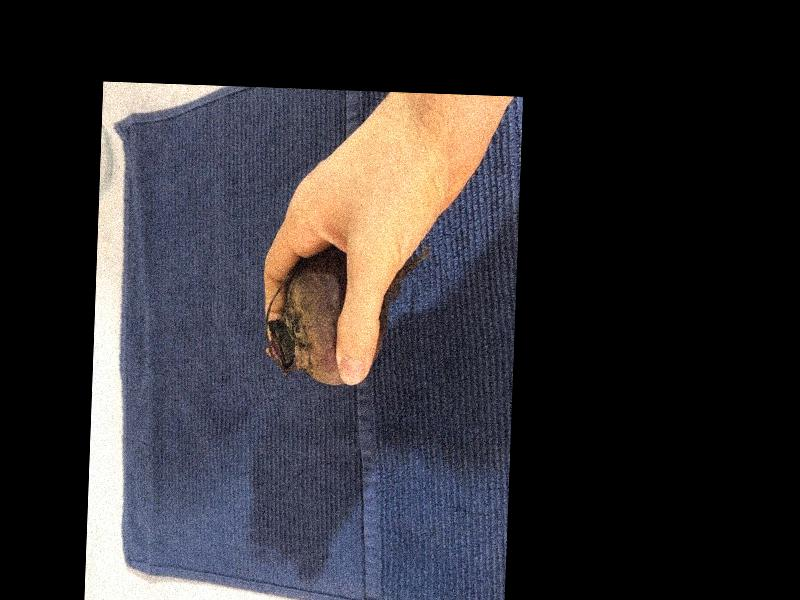Beet: (264, 247, 431, 389)
